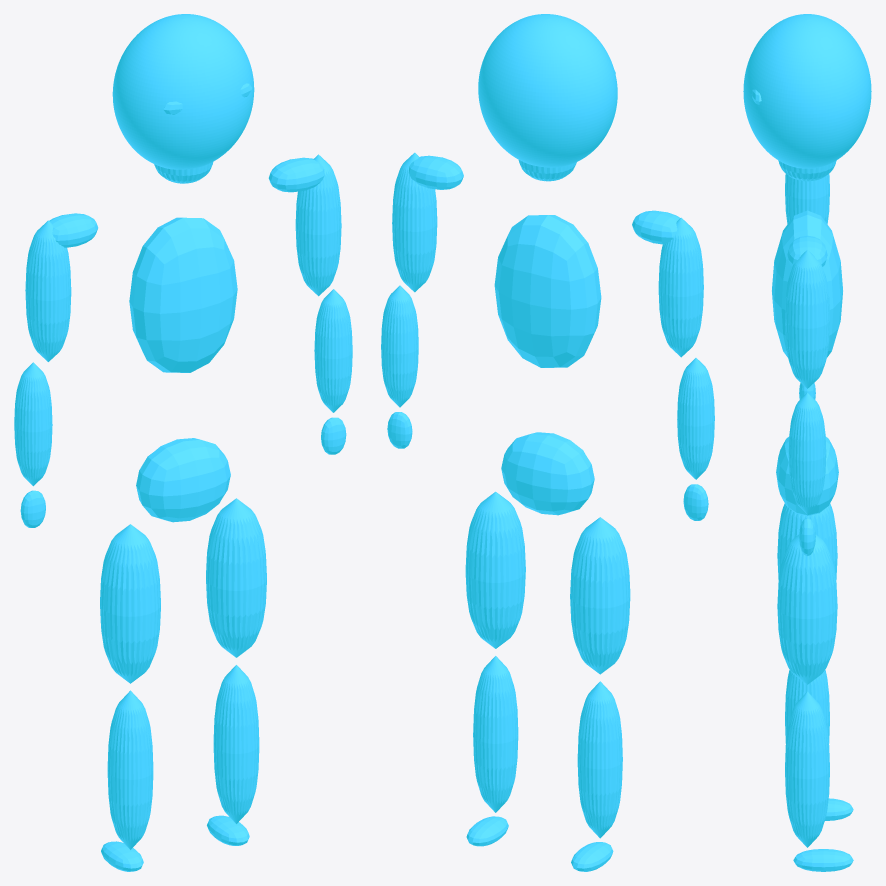
Rendered from char_mara_voss_001.glb.
The picture shows the model from 3 angles, left to right: view 1: azimuth 30°, elevation 25°; view 2: azimuth 150°, elevation 25°; view 3: azimuth 270°, elevation 25°; orthographic projection.
Visible parts, largest first — view 1: char_mara_voss_001; view 2: char_mara_voss_001; view 3: char_mara_voss_001.
Boxes of the visible parts, x1,y1,x2,y2 form: char_mara_voss_001: [14, 14, 352, 871]; char_mara_voss_001: [381, 14, 714, 871]; char_mara_voss_001: [743, 14, 871, 871].
Bounding box in the file's own units: 0.9441 × 2.27 × 0.3199.
